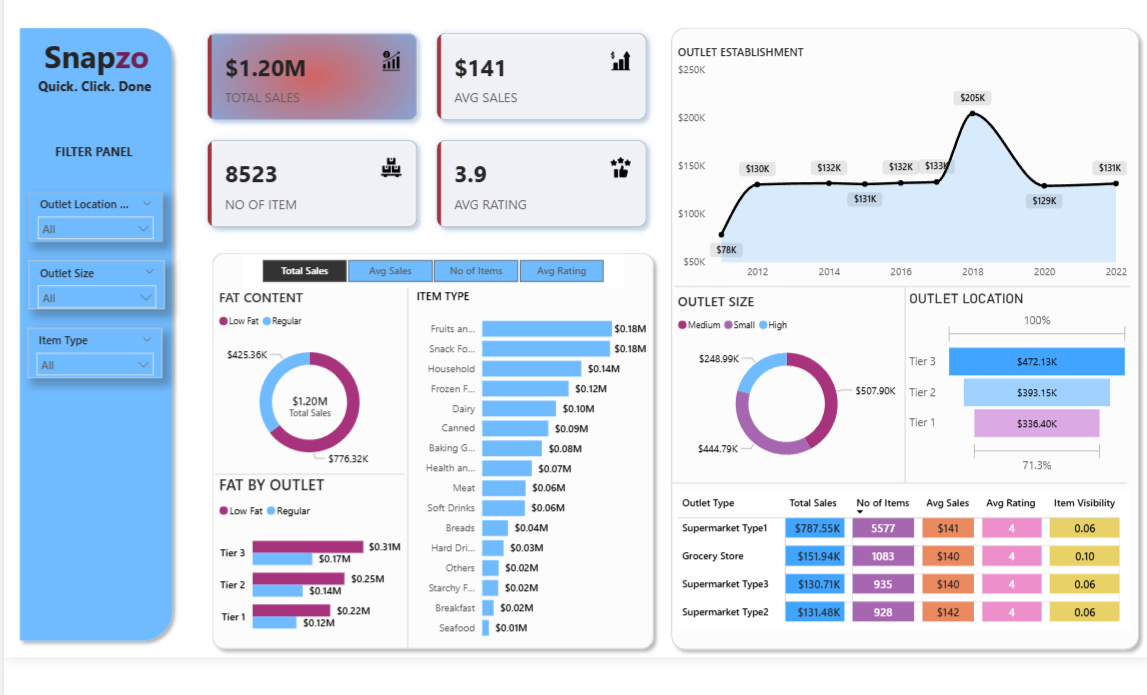

What the dashboard file says about the page in this screenshot:
{"tool":"powerbi","page":{"name":"Page 1","canvas":[1400,800],"ordinal":0},"visuals":[{"type":"shape","box":[10.7,25.5,203.8,764.1],"z":0},{"type":"textbox","box":[36,39,153.1,66],"z":1000},{"type":"textbox","box":[24.1,89.8,172.9,44.2],"z":2000},{"type":"cardVisual","fields":{"Data":["BlinkIT Grocery Data.Total Sales","BlinkIT Grocery Data.Avg Sales","BlinkIT Grocery Data.No of Items","BlinkIT Grocery Data.Avg Rating"]},"box":[230.7,24.9,569,271.3],"z":3000},{"type":"shape","box":[245.3,300.3,555,500],"z":4000},{"type":"donutChart","title":"FAT CONTENT","fields":{"Y":["Grocery Data.Total Sales"],"Category":["Grocery Data.Item Fat Content"]},"box":[257.4,351.2,230.6,229.2],"z":5000},{"type":"slicer","fields":{"Values":["metrics.metrics"]},"box":[289.5,311,465.1,40.2],"z":6000},{"type":"cardVisual","fields":{"Data":["Grocery Data.Total Sales"]},"box":[327.1,462.5,91.2,64.3],"z":7000},{"type":"clusteredBarChart","title":"FAT BY OUTLET","fields":{"Y":["Grocery Data.Total Sales"],"Category":["Grocery Data.Outlet Location Type"],"Series":["Grocery Data.Item Fat Content"]},"box":[257.2,578.3,231.3,210],"z":8000},{"type":"shape","box":[257.4,560.3,230.6,36.2],"z":9000},{"type":"shape","box":[487.9,351.2,6.7,438.3],"z":10000},{"type":"barChart","title":"ITEM TYPE","fields":{"Y":["Grocery Data.Total Sales"],"Category":["Grocery Data.Item Type"]},"box":[497.3,351.2,289.5,438.3],"z":11000},{"type":"shape","box":[803,25.5,587.1,774.8],"z":12000},{"type":"lineChart","title":"OUTLET ESTABLISHMENT","fields":{"Category":["Grocery Data.Outlet Establishment Year"],"Y":["Grocery Data.Total Sales"]},"box":[816.4,55,556.3,294.9],"z":13000},{"type":"shape","box":[816.4,331.1,556.3,36.2],"z":14000},{"type":"donutChart","title":"OUTLET SIZE","fields":{"Y":["Grocery Data.Total Sales"],"Category":["Grocery Data.Outlet Size"]},"box":[816.4,356.6,274.8,223.9],"z":15000},{"type":"shape","box":[1091.2,349.9,12.1,239.9],"z":16000},{"type":"funnel","title":"OUTLET LOCATION","fields":{"Y":["Grocery Data.Total Sales"],"Category":["Grocery Data.Outlet Location Type"]},"box":[1096.5,353.9,277.5,229.2],"z":17000},{"type":"shape","box":[811,571,556.3,36.2],"z":18000},{"type":"pivotTable","fields":{"Rows":["Grocery Data.Outlet Type"],"Values":["Grocery Data.Total Sales","Grocery Data.No of Items","Grocery Data.Avg Sales","Grocery Data.Avg Rating","Avg(Grocery Data.Item Visibility)"]},"box":[816.4,596.5,556.3,170.2],"z":19000},{"type":"slicer","fields":{"Values":["Grocery Data.Outlet Location Type"]},"box":[30.4,234.3,162.8,60.9],"z":20000},{"type":"slicer","fields":{"Values":["Grocery Data.Outlet Size"]},"box":[30.4,318,165.9,59.3],"z":20001},{"type":"slicer","fields":{"Values":["Grocery Data.Item Type"]},"box":[28.9,400.2,164.3,60.9],"z":20002},{"type":"textbox","box":[57.6,170.2,113.9,32.2],"z":20003}]}

Visuals, with their boxes on the page's 1400x800 design canvas (x1, y1, x2, y2). These are canvas units, not pixel positions in the 1147x695 screenshot, which may show the page scaled, cropped or inside an application window:
shape: BBox(11, 26, 214, 790)
textbox: BBox(36, 39, 189, 105)
textbox: BBox(24, 90, 197, 134)
cardVisual - BlinkIT Grocery Data.Total Sales x BlinkIT Grocery Data.Avg Sales: BBox(231, 25, 800, 296)
shape: BBox(245, 300, 800, 800)
"FAT CONTENT" donutChart: BBox(257, 351, 488, 580)
slicer - metrics.metrics: BBox(290, 311, 755, 351)
cardVisual - Grocery Data.Total Sales: BBox(327, 462, 418, 527)
"FAT BY OUTLET" clusteredBarChart: BBox(257, 578, 488, 788)
shape: BBox(257, 560, 488, 596)
shape: BBox(488, 351, 495, 790)
"ITEM TYPE" barChart: BBox(497, 351, 787, 790)
shape: BBox(803, 26, 1390, 800)
"OUTLET ESTABLISHMENT" lineChart: BBox(816, 55, 1373, 350)
shape: BBox(816, 331, 1373, 367)
"OUTLET SIZE" donutChart: BBox(816, 357, 1091, 580)
shape: BBox(1091, 350, 1103, 590)
"OUTLET LOCATION" funnel: BBox(1096, 354, 1374, 583)
shape: BBox(811, 571, 1367, 607)
pivotTable - Grocery Data.Outlet Type x Grocery Data.Total Sales: BBox(816, 596, 1373, 767)
slicer - Grocery Data.Outlet Location Type: BBox(30, 234, 193, 295)
slicer - Grocery Data.Outlet Size: BBox(30, 318, 196, 377)
slicer - Grocery Data.Item Type: BBox(29, 400, 193, 461)
textbox: BBox(58, 170, 172, 202)
